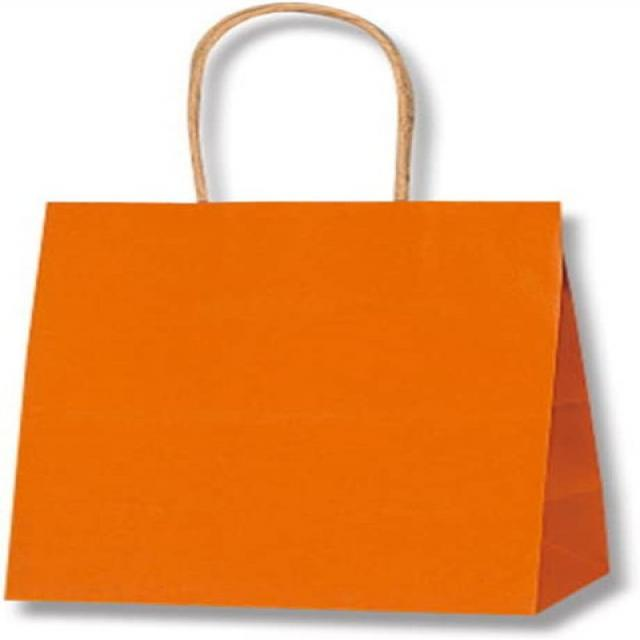paper bag: (6, 3, 614, 617)
